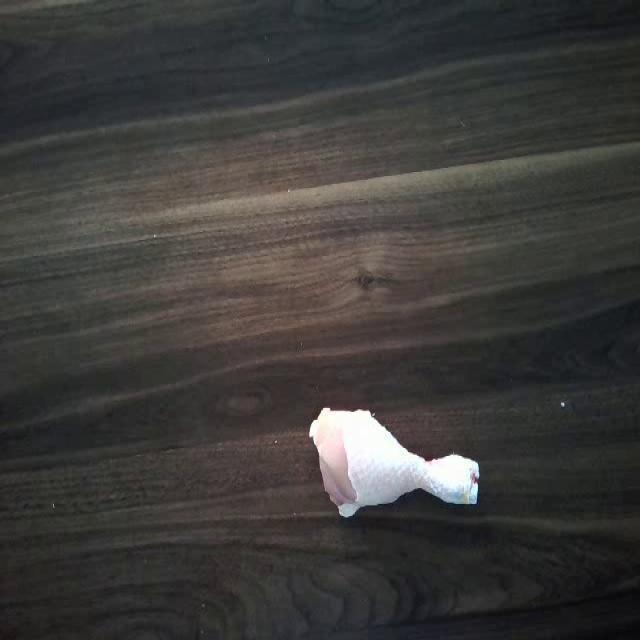leg: (309, 403, 481, 523)
